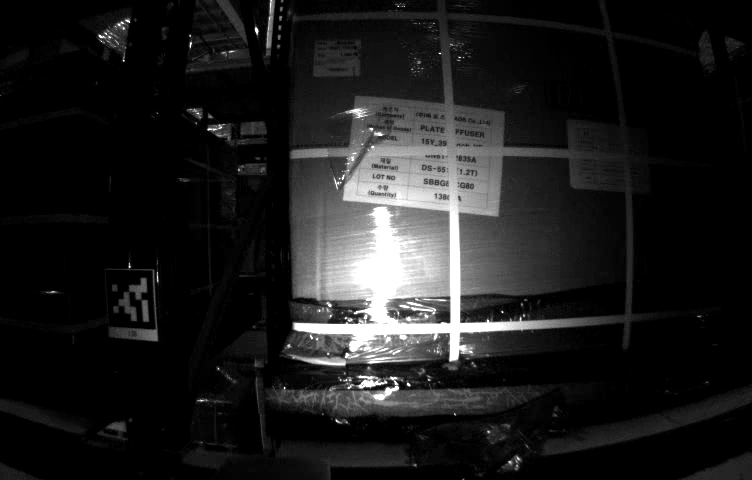True Barcode: (315, 39, 361, 76)
